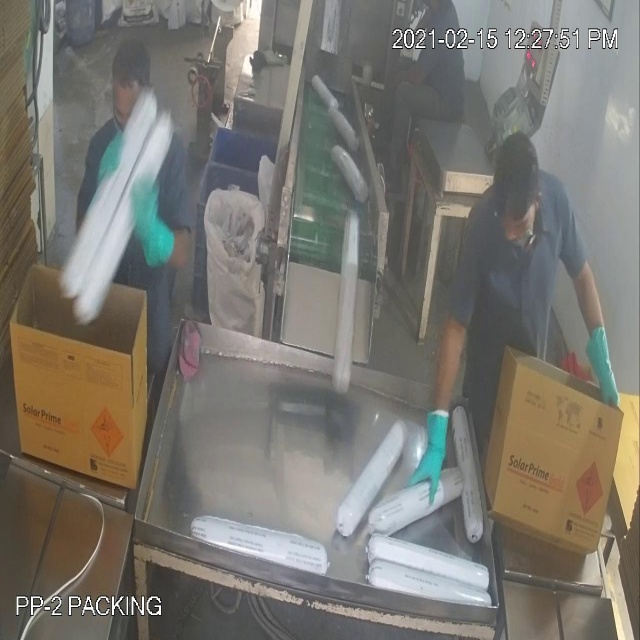Guantes: (398, 371, 461, 531), (119, 159, 186, 282), (574, 289, 627, 428)
Sin_guantes: (381, 37, 433, 90)
